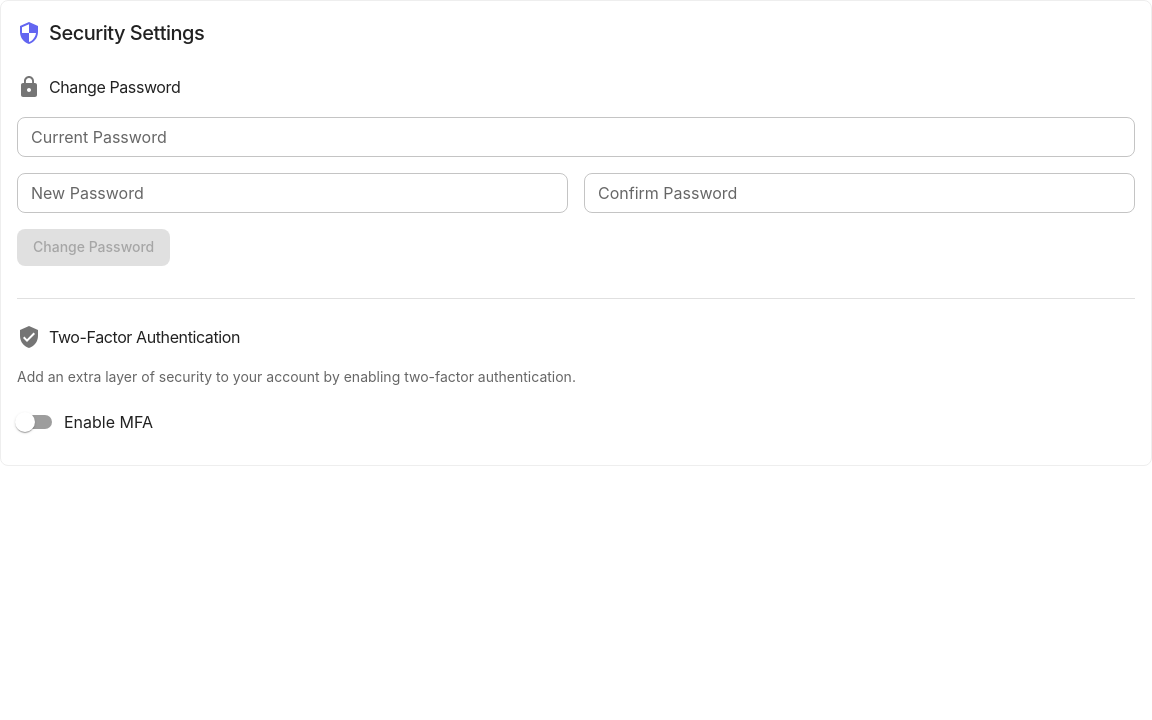
Scenario: SecuritySettings › password change › shows validation error when new password is too short
Type "OldPassword123" into the password field labelled "Current Password". click: coordinates (576, 137)
box: [17,117,1135,157]
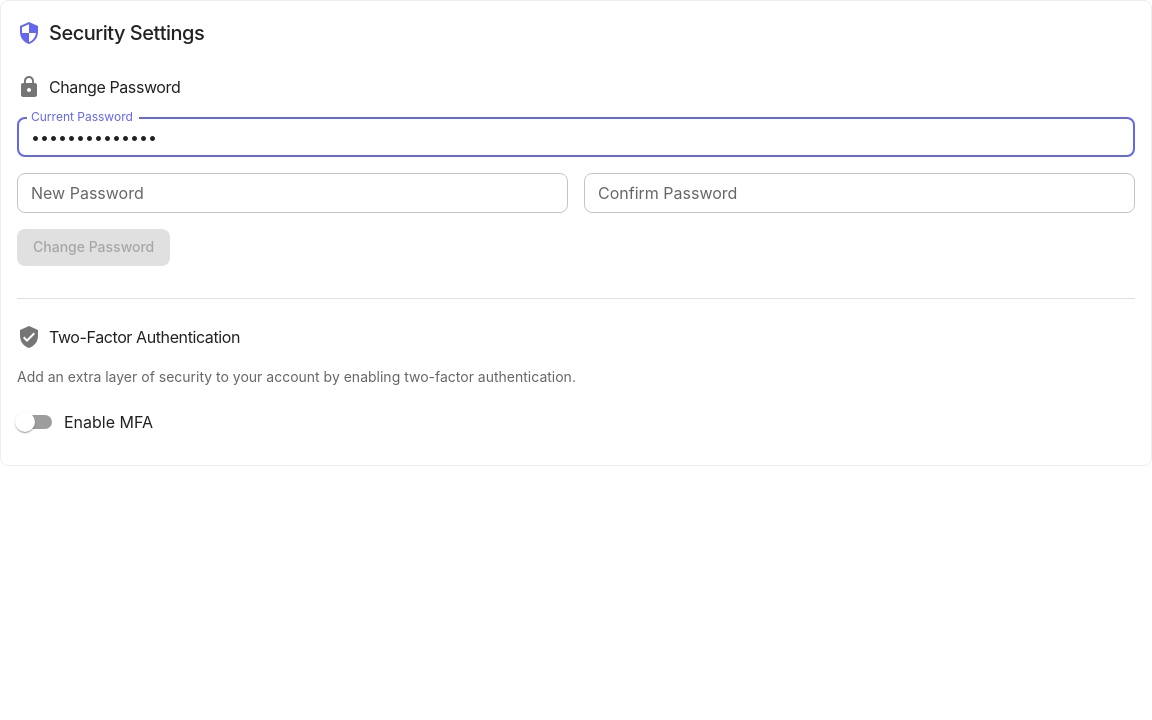
Type "Short1" into the password field labelled "New Password". click: coordinates (292, 193)
box: [17,173,568,213]
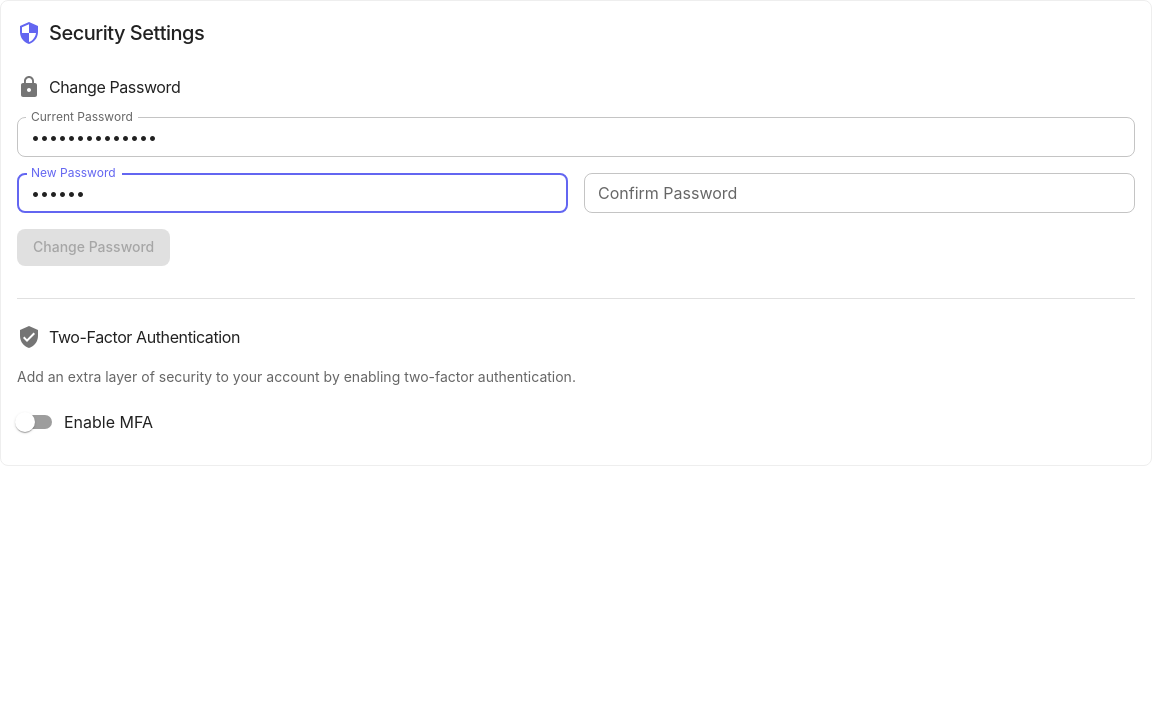
Type "Short1" into the password field labelled "Confirm Password". click: coordinates (860, 193)
box: [584,173,1135,213]
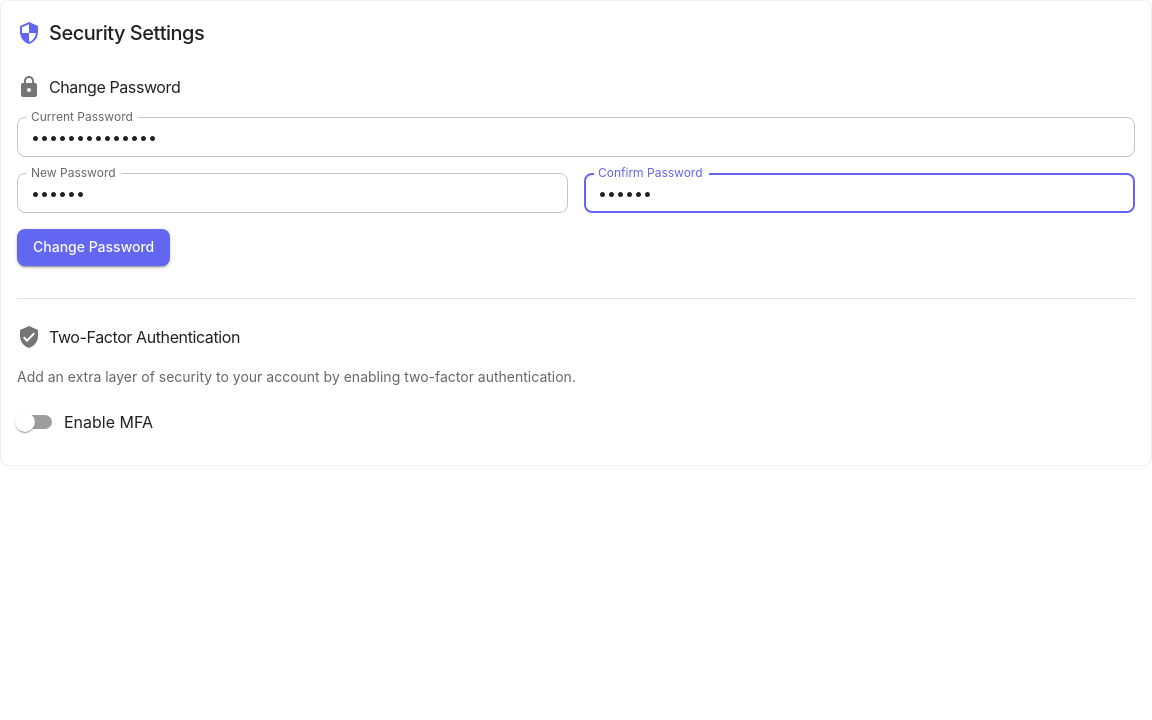
Click the button "Change Password". click: coordinates (94, 247)
box: [17,229,170,266]
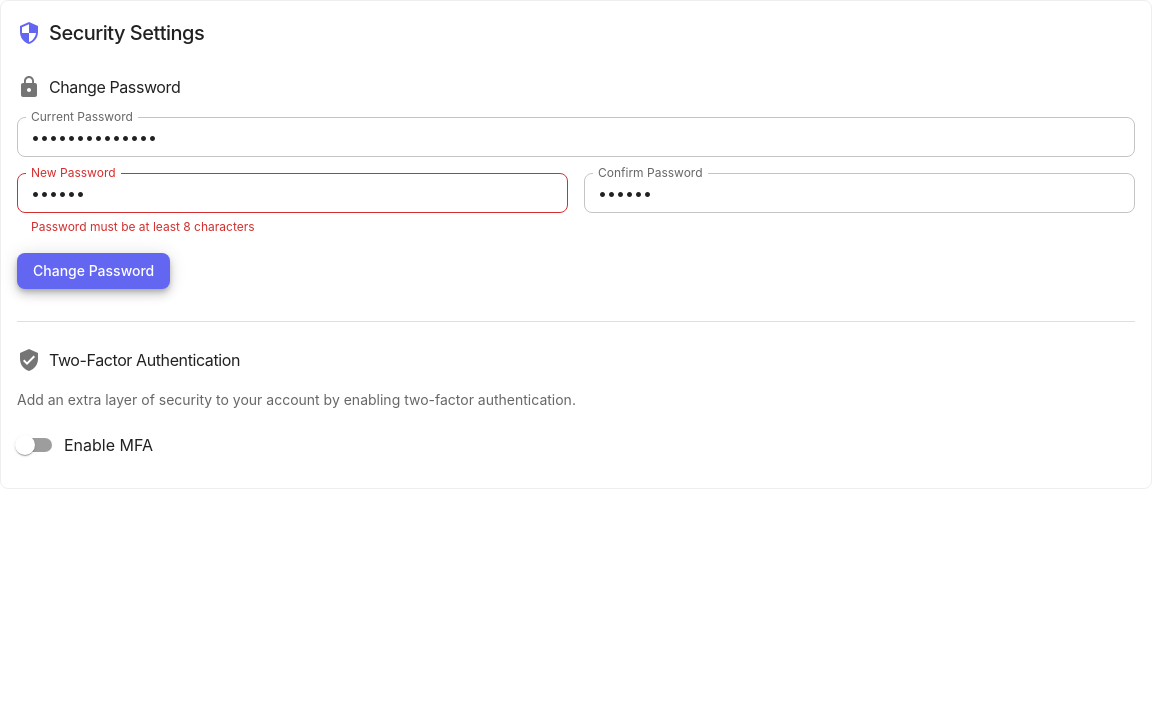
Result: the text "Password must be at least 8 characters" is shown at [31,219,255,234]
